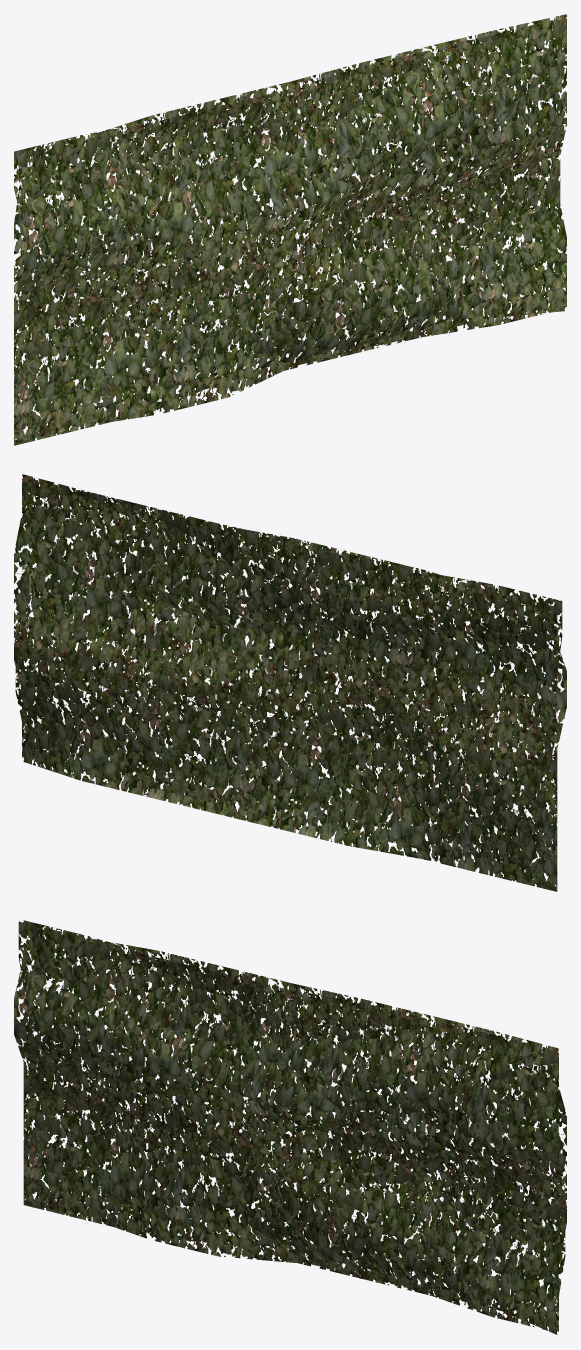
File: ivy_1.obj
3 renders of one model, top to bottom at view 1: azimuth 30°, elevation 25°; view 2: azimuth 150°, elevation 25°; view 3: azimuth 330°, elevation 25°, orthographic. The views are drawn at different scales.
Parts seen in each view (by area): view 1: 1, 2; view 2: 2, 1; view 3: 1, 2.
Boxes of the visible parts, x1,y1,x2,y2 form: 1: (14,14,566,443); 2: (14,17,566,445); 2: (14,477,566,891); 1: (15,474,562,886); 1: (18,921,565,1332); 2: (14,920,566,1334).
Size of the model in its own units: 59.16 by 30.35 by 6.23.
1 material, 1 textured.
